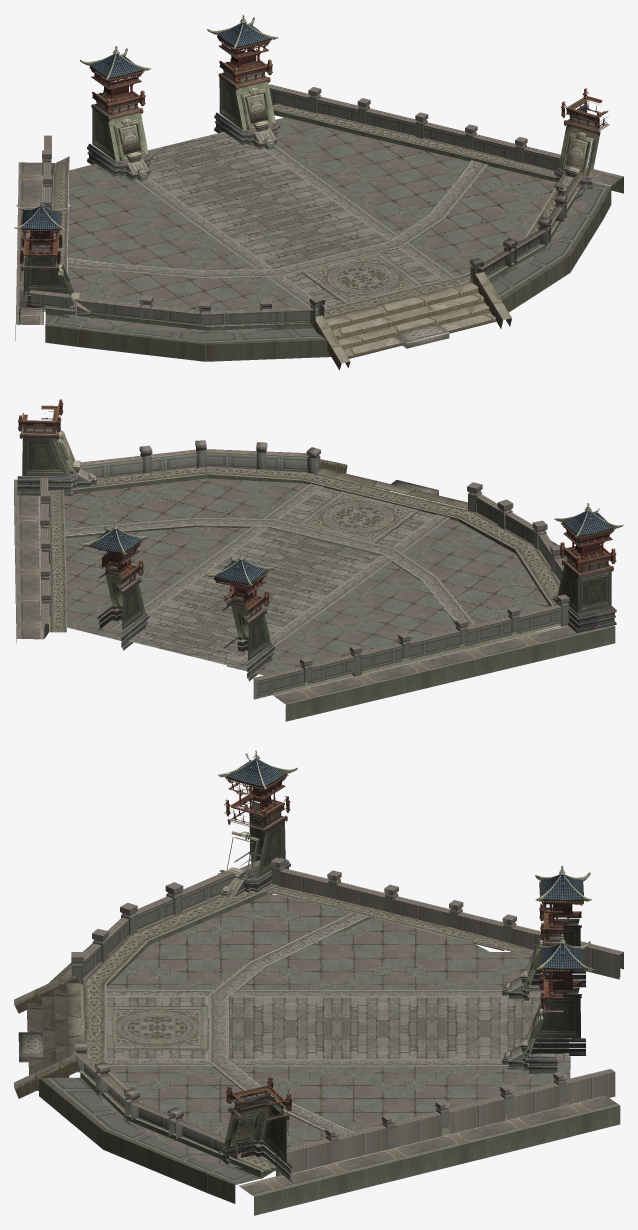
The model's file is combat_01_redplace.FBX.
3 renders of one model, top to bottom at view 1: azimuth 30°, elevation 25°; view 2: azimuth 150°, elevation 25°; view 3: azimuth 270°, elevation 25°, orthographic. The views are drawn at different scales.
Parts seen in each view (by area): view 1: redfloor001, redfloor004, asdasfvasdfv, f08, redlouti001, f016, zhuzi3, neita4__2_, zhuzi006, neita4__1_, f015, f014 (+12 smaller); view 2: redfloor004, redfloor001, asdasfvasdfv, f014, zhuzi007, f015, zhuzi001, neita002, neita001, f016, huadiban, f08 (+12 smaller); view 3: redfloor004, asdasfvasdfv, redfloor001, f015, f016, zhuzi006, zhuzi007, neita4__1_, zhuzi3, neita002, f08, huadiban (+12 smaller).
Boxes of the visible parts, x1=… form: redfloor001: x1=245, y1=117, x2=587, y2=276; redfloor004: x1=64, y1=164, x2=308, y2=332; asdasfvasdfv: x1=148, y1=132, x2=441, y2=307; f08: x1=45, y1=294, x2=396, y2=361; redlouti001: x1=325, y1=282, x2=496, y2=358; f016: x1=386, y1=174, x2=611, y2=312; zhuzi3: x1=29, y1=290, x2=350, y2=370; neita4__2_: x1=80, y1=45, x2=152, y2=182; zhuzi006: x1=269, y1=84, x2=564, y2=170; neita4__1_: x1=207, y1=14, x2=279, y2=150; f015: x1=272, y1=103, x2=623, y2=193; f014: x1=15, y1=156, x2=69, y2=340; redfloor004: x1=226, y1=519, x2=549, y2=675; redfloor001: x1=35, y1=478, x2=308, y2=640; asdasfvasdfv: x1=116, y1=487, x2=435, y2=666; f014: x1=272, y1=623, x2=615, y2=721; zhuzi007: x1=253, y1=594, x2=569, y2=699; f015: x1=14, y1=479, x2=66, y2=642; zhuzi001: x1=80, y1=440, x2=347, y2=478; neita002: x1=553, y1=502, x2=623, y2=632; neita001: x1=17, y1=399, x2=97, y2=495; f016: x1=48, y1=466, x2=390, y2=500; huadiban: x1=296, y1=491, x2=419, y2=543; f08: x1=380, y1=491, x2=567, y2=606; redfloor004: x1=106, y1=893, x2=552, y2=990; asdasfvasdfv: x1=106, y1=996, x2=569, y2=1060; redfloor001: x1=99, y1=1056, x2=570, y2=1170; f015: x1=238, y1=1095, x2=620, y2=1215; f016: x1=39, y1=1026, x2=279, y2=1203; zhuzi006: x1=274, y1=1069, x2=615, y2=1176; zhuzi007: x1=271, y1=857, x2=623, y2=979; neita4__1_: x1=502, y1=934, x2=591, y2=1073; zhuzi3: x1=14, y1=860, x2=259, y2=1013; neita002: x1=217, y1=750, x2=297, y2=896; f08: x1=43, y1=883, x2=278, y2=1028; huadiban: x1=107, y1=1006, x2=208, y2=1050.
Bounding box in the file's own units: 88.62 × 19.4 × 68.91.
